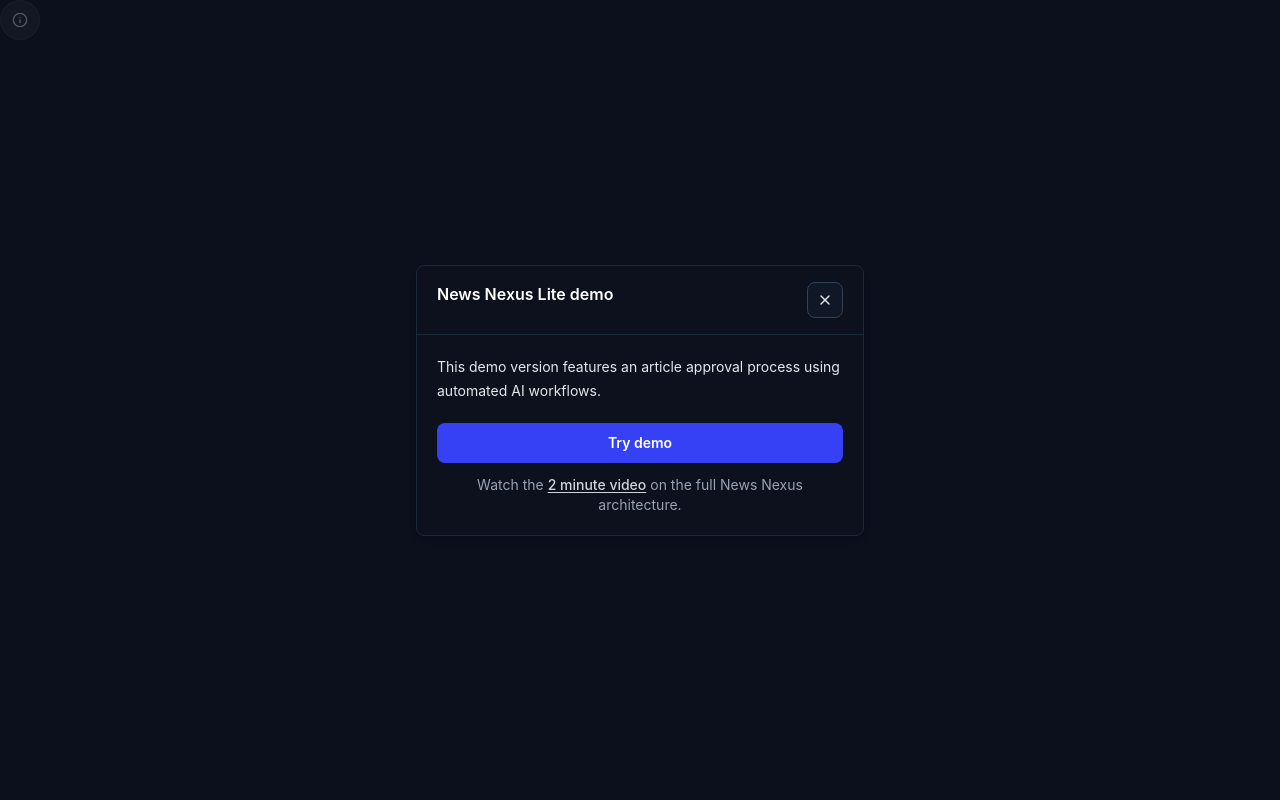
DemoInfoModal › closes the modal from the try demo button
Click the button "Try demo" at x=640, y=442, box [437,422,843,462]
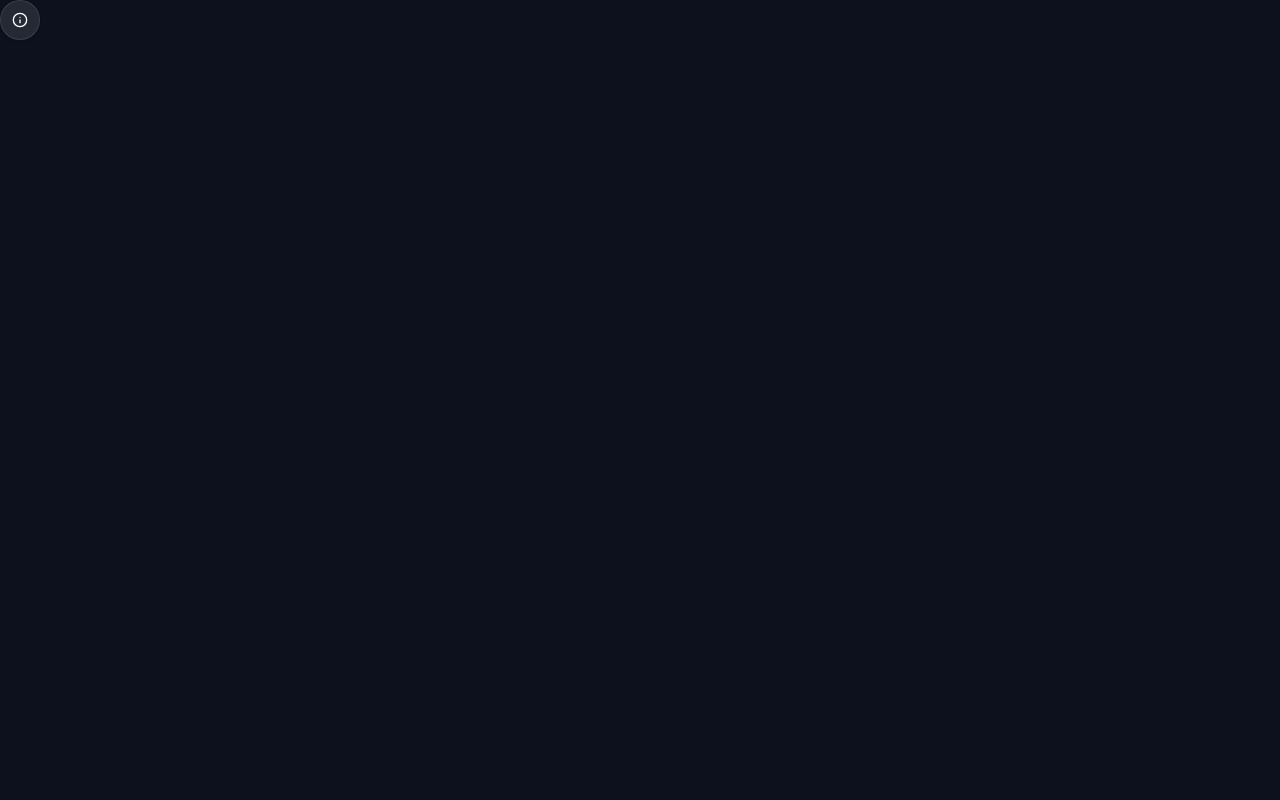
Expected: the dialog is gone
